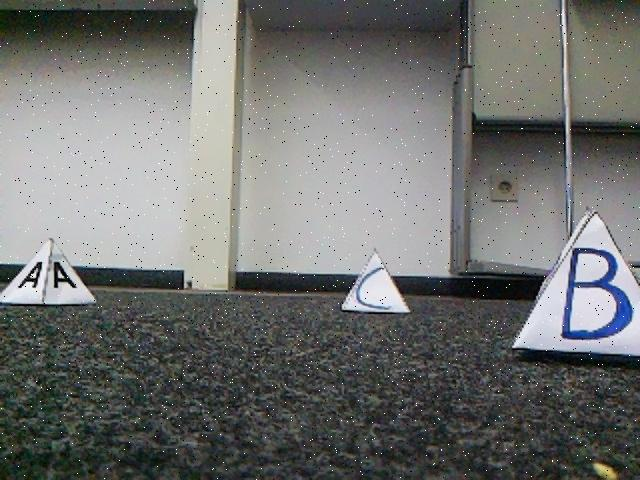A: (0, 241, 93, 308)
B: (512, 208, 640, 355)
C: (340, 248, 411, 312)
